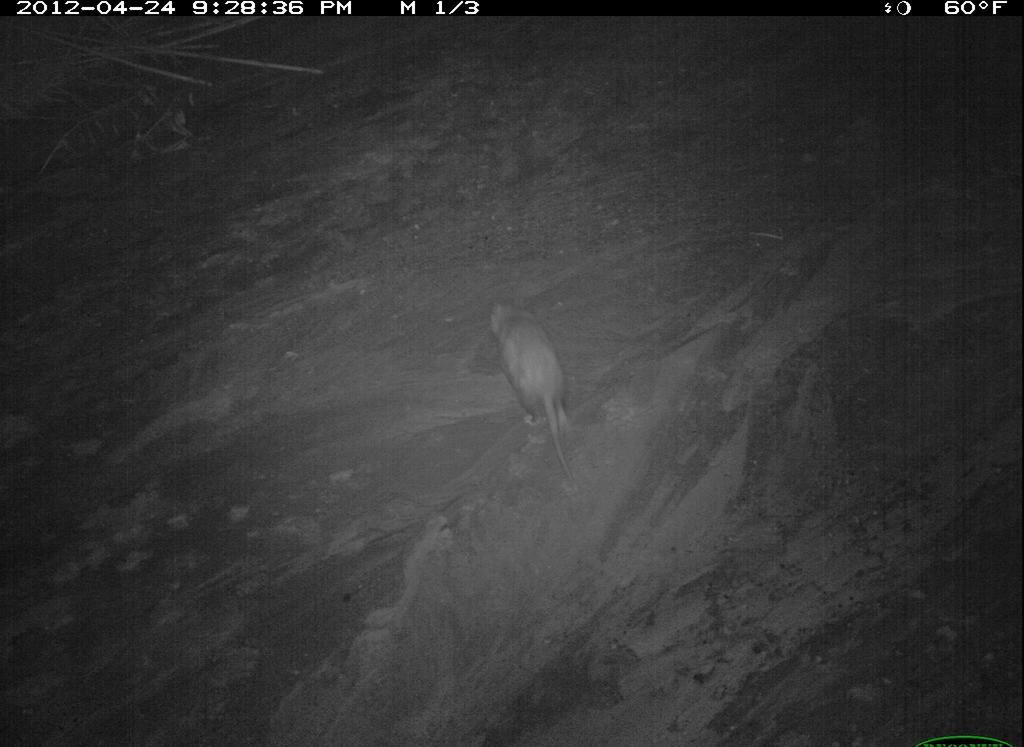opossum: (964, 589, 1024, 747)
